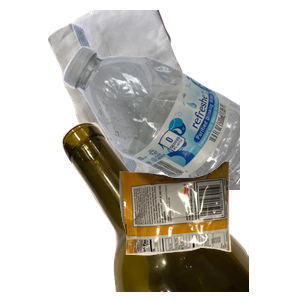glass: (60, 120, 300, 300)
paper: (45, 10, 251, 190)
plastic: (60, 44, 300, 224)
trash: (117, 159, 300, 300)
